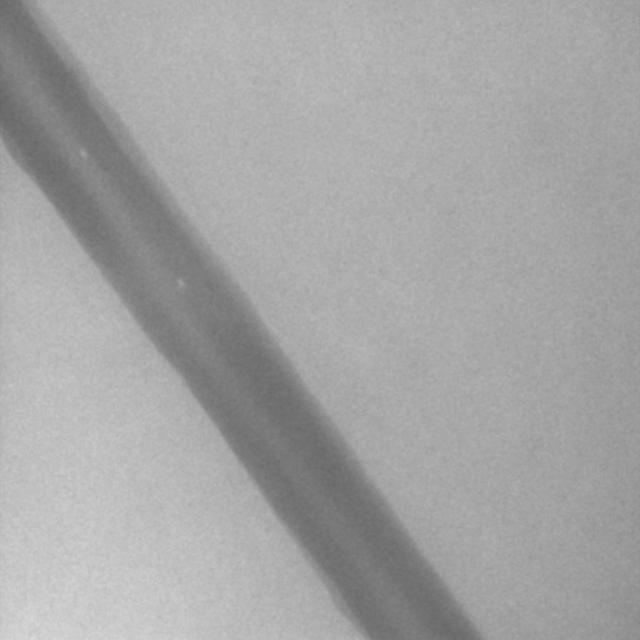air hole: (175, 275, 186, 291), (78, 147, 87, 161)
